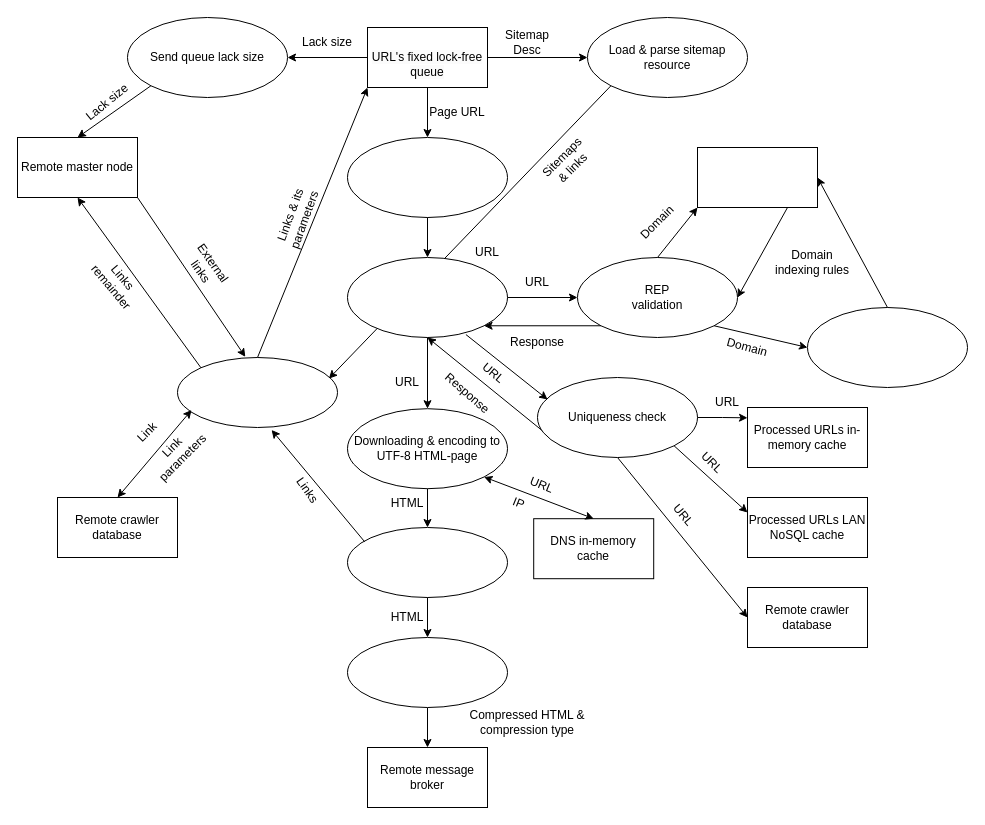
The diagram is 985 pixels wide and 825 high, and some of its shapes have lost their labels. Here are the shapes that lost their labels. From the top down, the centre of each, then its label:
At [427,177]: "Extracting domain & resource".
At [757,177]: "REP In-Memory Cache".
At [427,297]: "URL validation".
At [887,347]: "REP loading".
At [257,392]: "Distribute links".
At [427,562]: "Fetching links".
At [427,672]: "Filtering waste tags and compressing".
